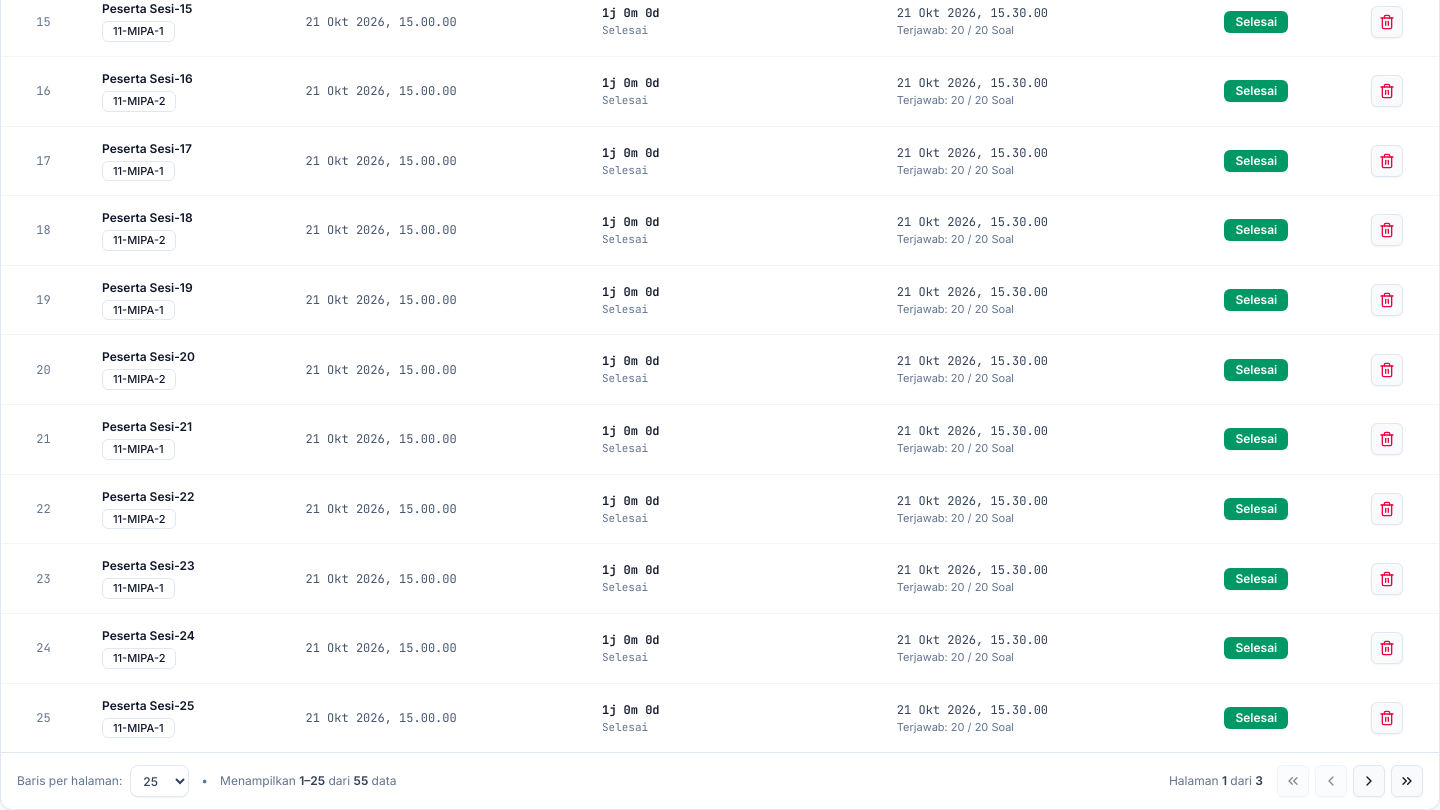
Test case: Fitur Paginasi Tabel Admin (DataTablePagination) › Paginasi pada SessionMonitoringView (/admin/ujian/[id]/pemantauan) › me-reset halaman ke 1 saat tab filter status diganti
The width and height of the screenshot is (1440, 810).
(page scrolled)
Klik halaman berikutnya
Click the button named "Ke halaman berikutnya" at [1369, 781], box [1353,765,1385,797]
(page scrolled)
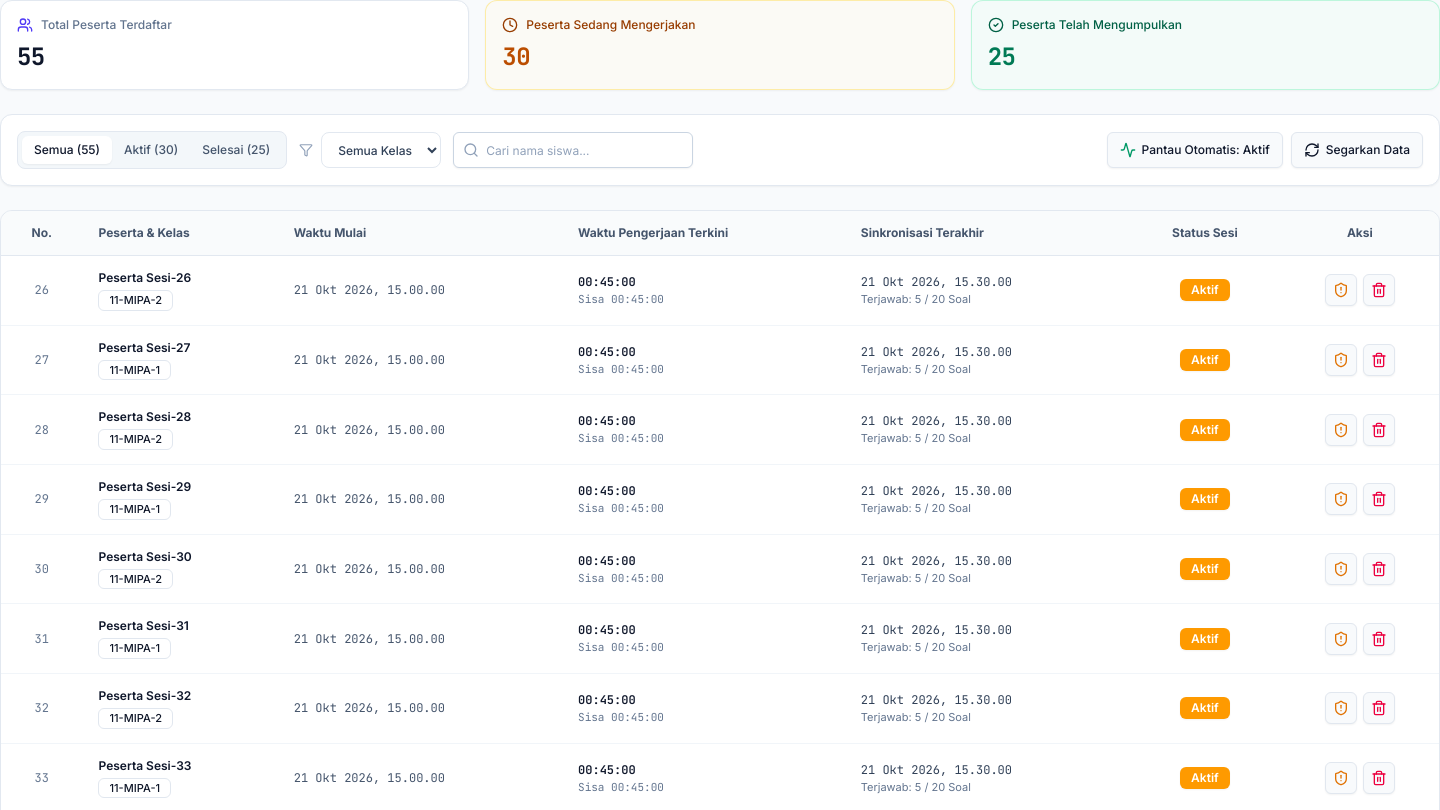
Expected: the text "Peserta Sesi-26" is shown, [98,270,191,285]
Klik tab "Aktif (30)"
Click the button "Aktif (30)" at [151, 150], box [112,136,190,164]
(page scrolled)
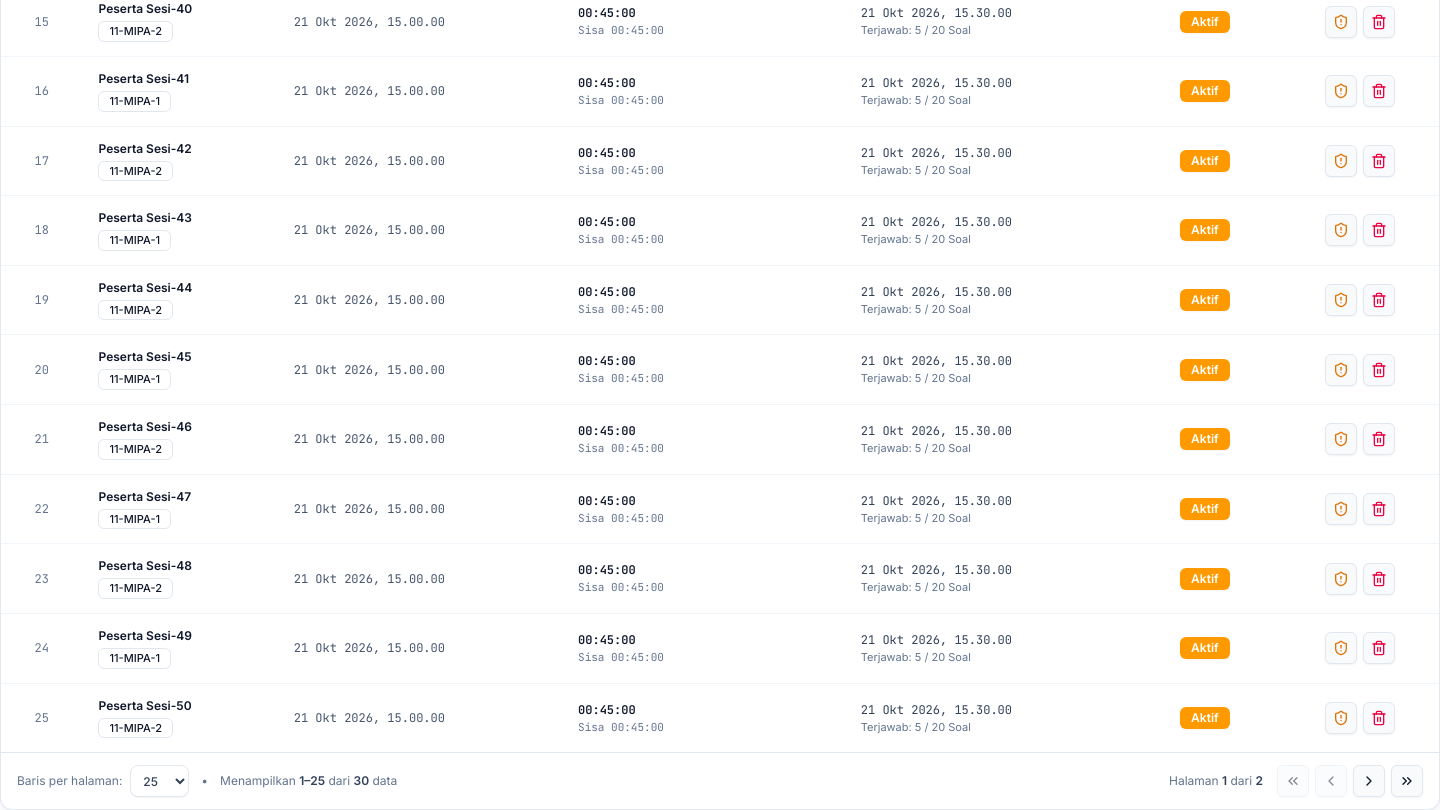
Expected: the element with test id "pagination-page-info" reads "Halaman 1 dari 2", [1169,773,1263,789]
Expected: the element with test id "pagination-range-info" reads "Menampilkan 1–25 dari 30 data", [220,773,397,789]
